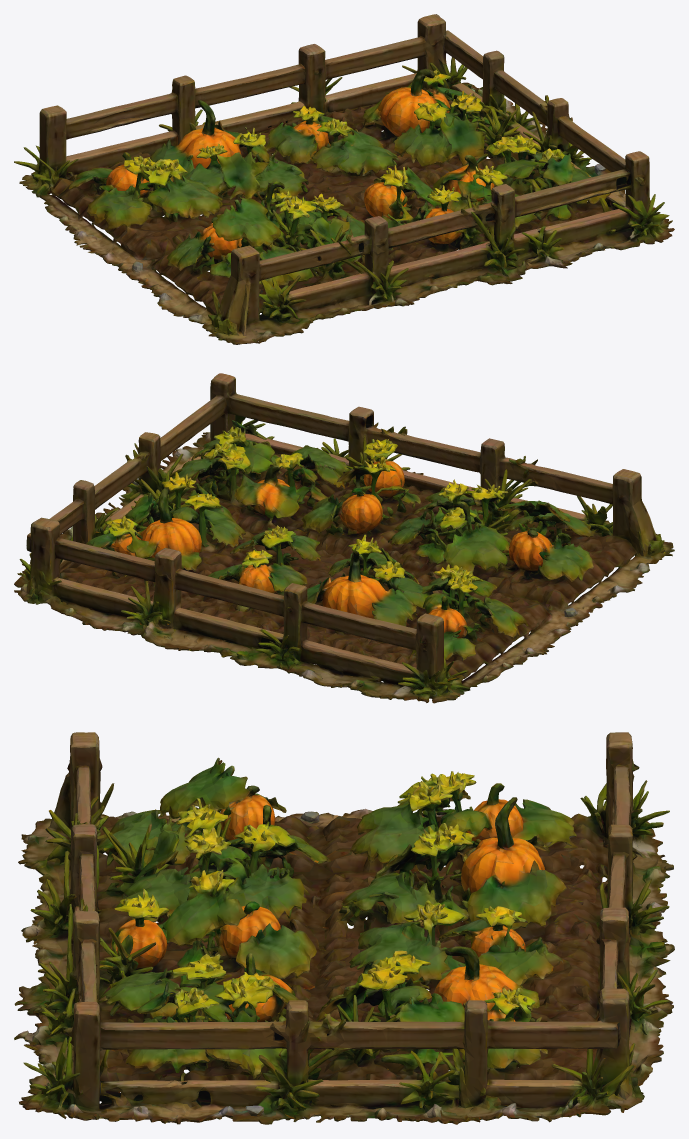
The model's file is pumpkingPatch.glb.
3 views of the same model, one above another, from view 1: azimuth 30°, elevation 25°; view 2: azimuth 150°, elevation 25°; view 3: azimuth 270°, elevation 25° (orthographic). The views are drawn at different scales.
Visible parts, largest first — view 1: geometry_0; view 2: geometry_0; view 3: geometry_0.
Part boxes in pixels (x1=…): geometry_0: x1=14, y1=14, x2=674, y2=344; geometry_0: x1=14, y1=373, x2=674, y2=703; geometry_0: x1=14, y1=732, x2=674, y2=1124.
Bounding box in the file's own units: 1 × 0.182 × 0.8695.
Materials: 1 (1 with a texture image).
